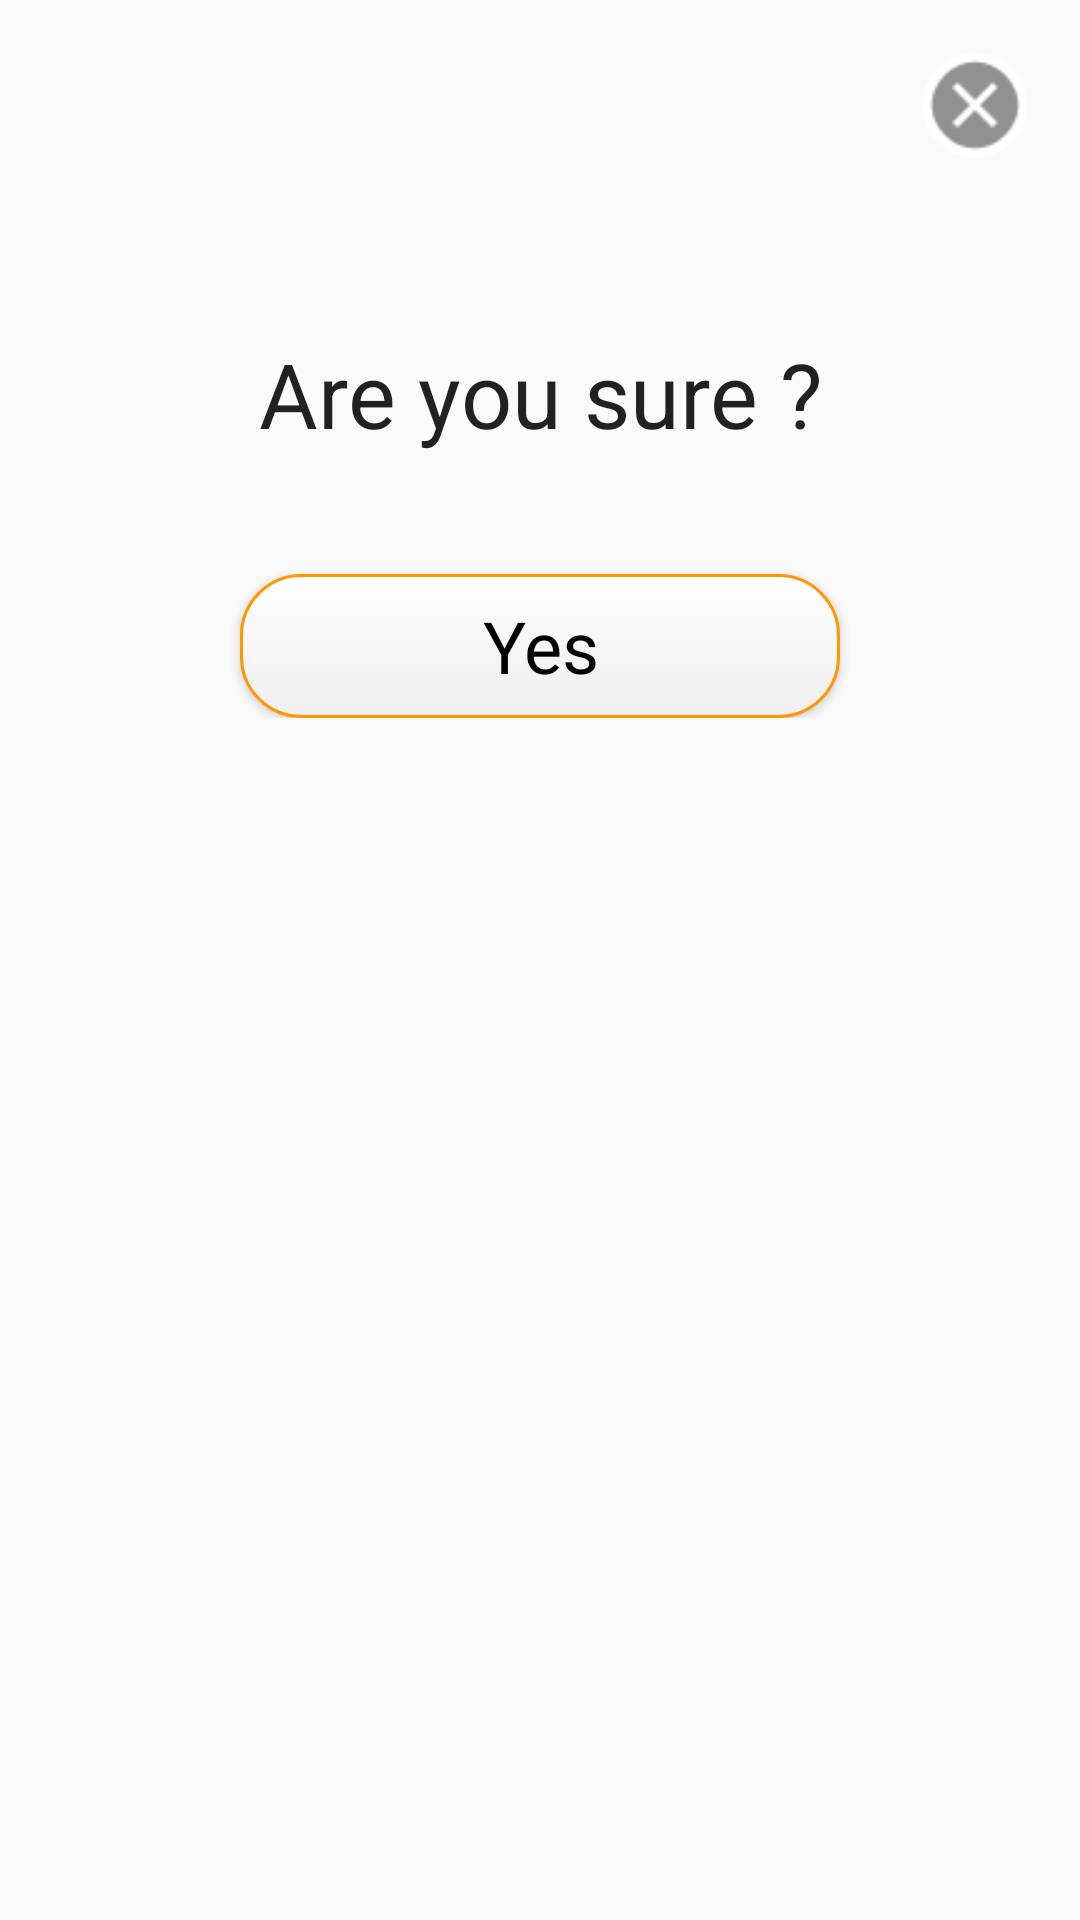

Icons on this 1080*1920 Android screen, each with its box as [x1=x1, y1=y1, x2=x2, y2=y2]:
presence offline: [x1=931, y1=61, x2=1019, y2=149]
